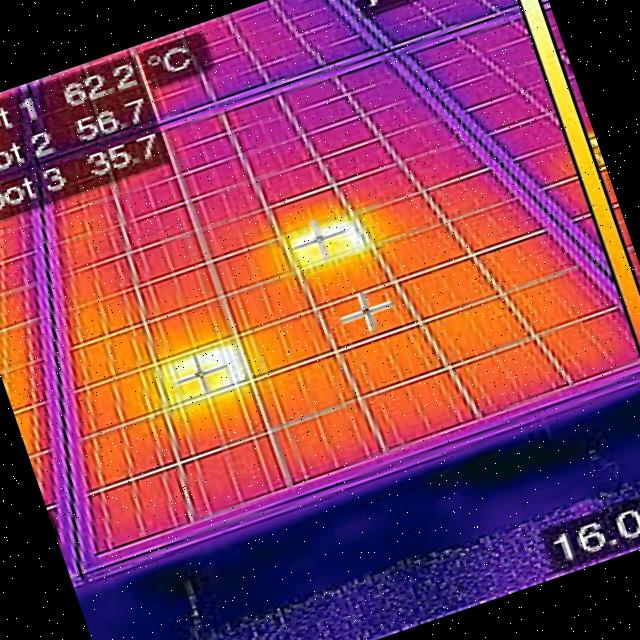Hotspot: (150, 333, 258, 413), (282, 215, 365, 272)
